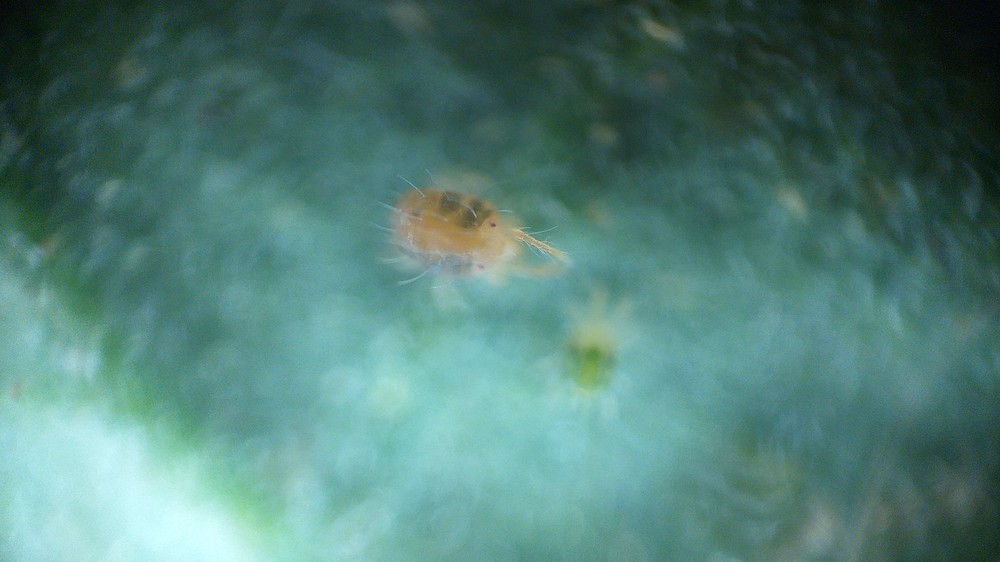Aracnido Rojo: (333, 152, 581, 308)
